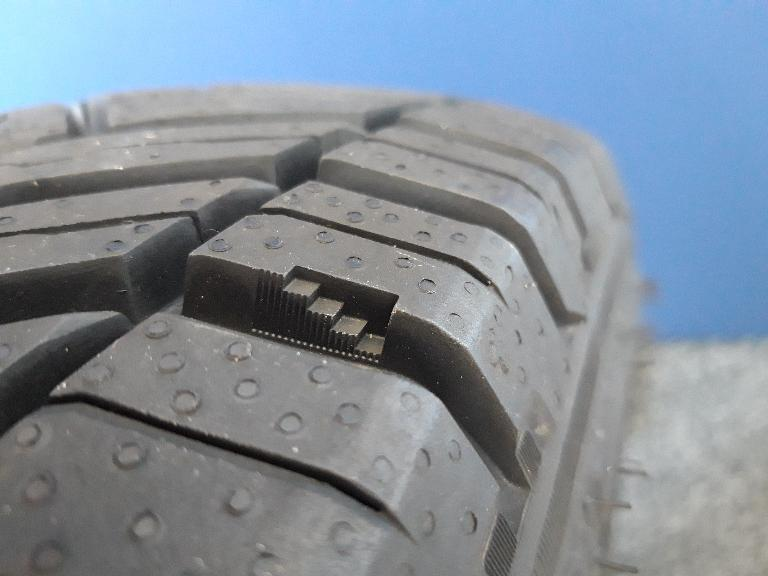temoin:100: (246, 258, 408, 373)
